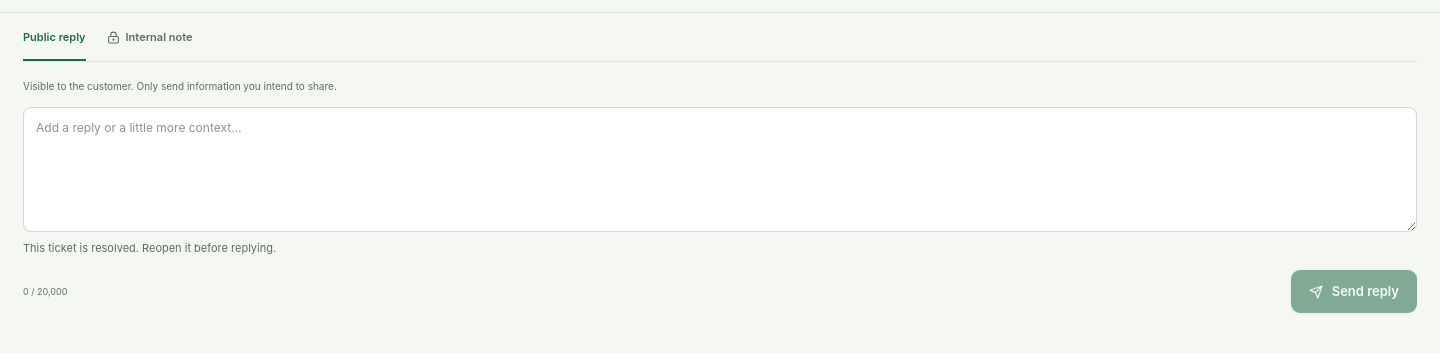
Test case: public and internal message boundaries › blocks resolved public replies while allowing an internal note
The width and height of the screenshot is (1440, 353).
Check: the button "Send reply" is disabled, box [1291,270,1417,313]
Click the tab "Internal note". click: x=150, y=37
box: [107,13,192,61]
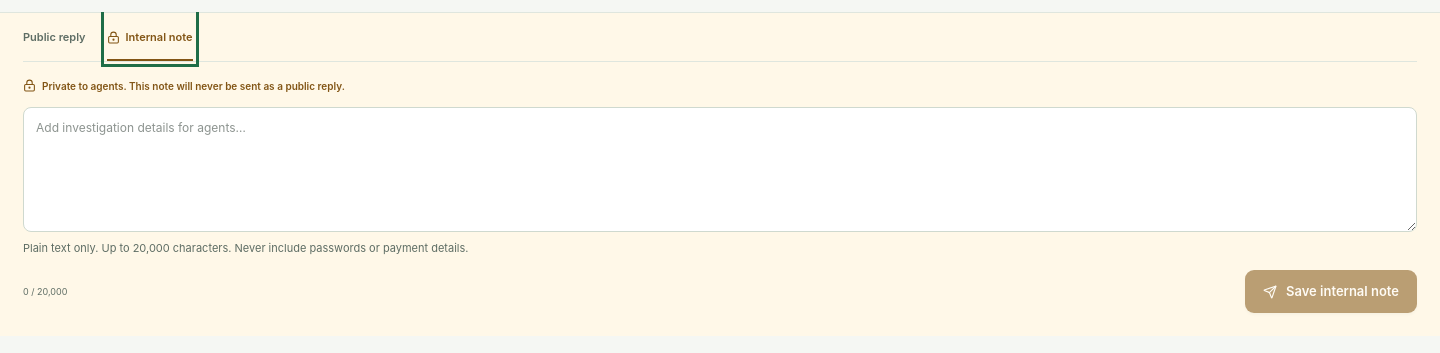
Type "Synthetic note on a resolved ticket" into the text box named "Internal note". click: x=720, y=169
box: [23,107,1417,232]
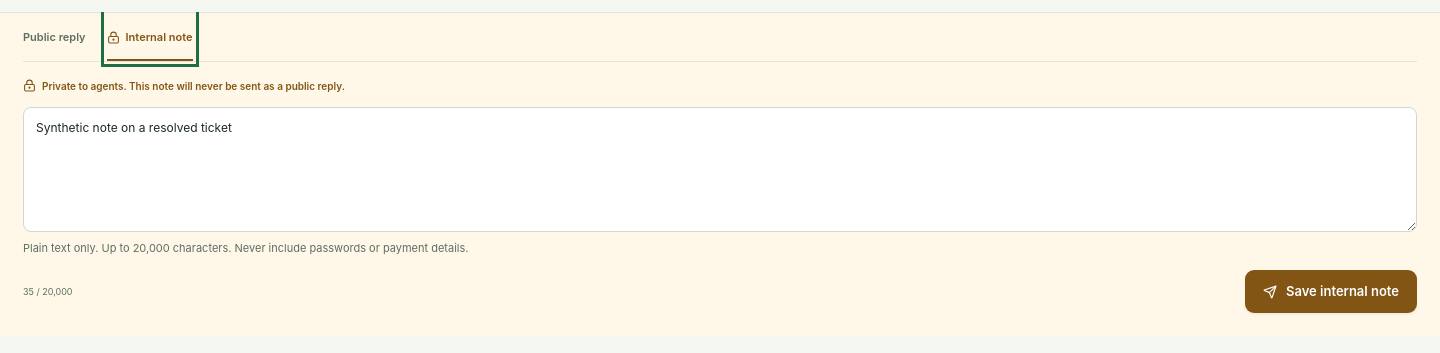
Check: the button "Save internal note" is enabled, box [1245,270,1417,313]
